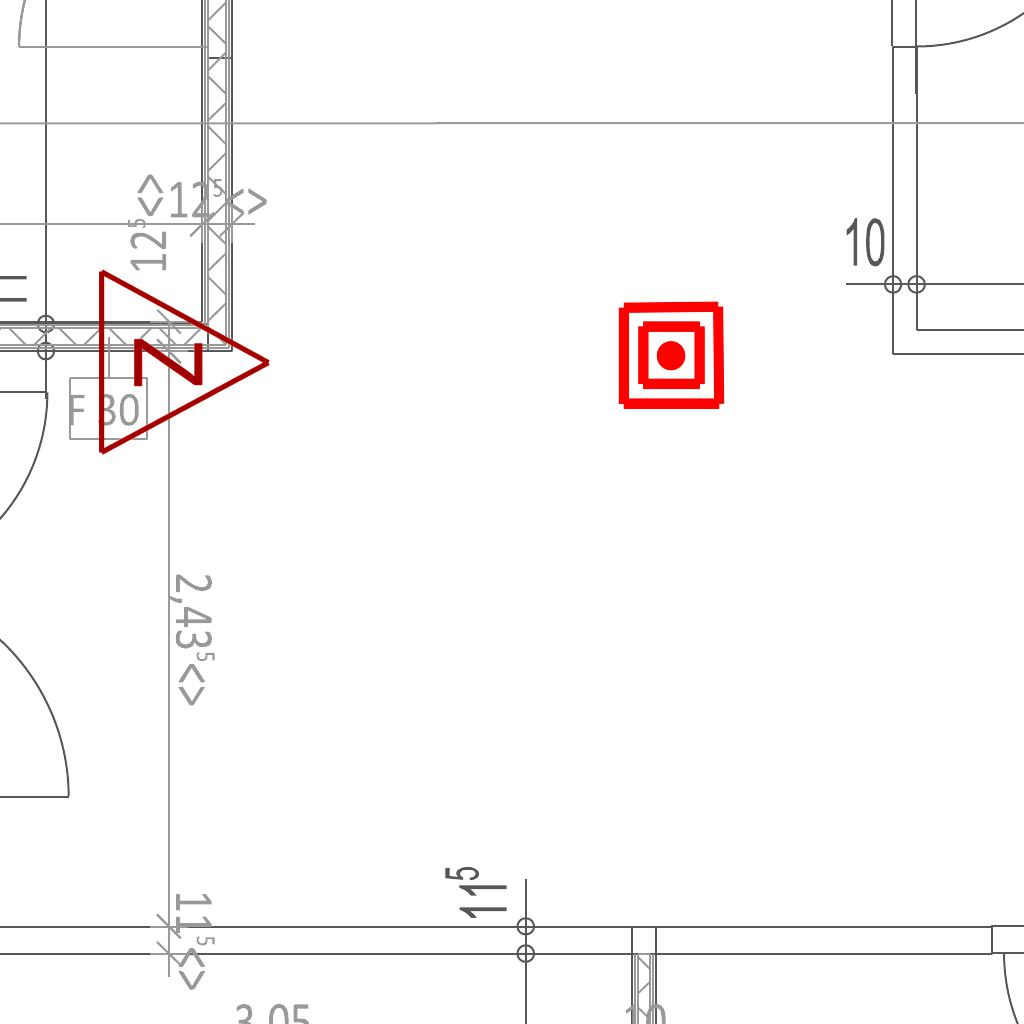NAM-Nichtautomatischer_Melder: (615, 299, 728, 412)
Zimmersignalleuchte: (84, 262, 284, 458)
